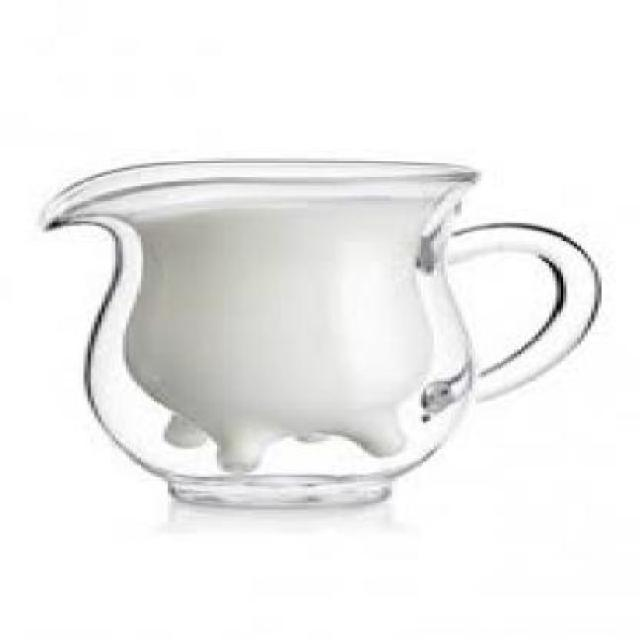kaca: (36, 158, 598, 504)
